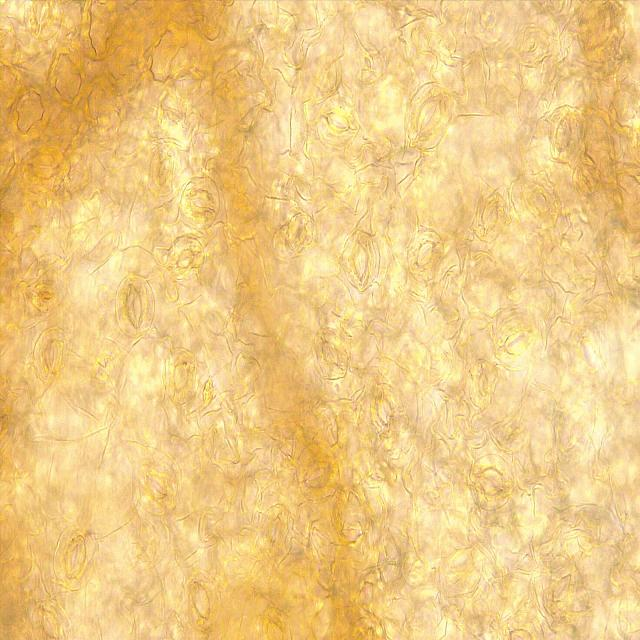Stomata: (404, 80, 454, 152), (52, 524, 96, 592), (295, 442, 341, 504), (468, 452, 515, 511), (18, 143, 71, 195), (491, 316, 540, 372), (341, 227, 382, 293), (181, 569, 223, 633), (114, 273, 156, 336), (134, 456, 178, 515), (315, 94, 361, 149), (405, 226, 447, 283), (179, 174, 221, 229), (310, 326, 352, 381), (546, 104, 583, 164), (32, 326, 70, 384), (162, 348, 201, 404), (471, 187, 509, 244), (167, 233, 207, 282), (148, 141, 182, 198), (29, 598, 72, 640), (23, 0, 63, 41), (503, 608, 546, 640)
